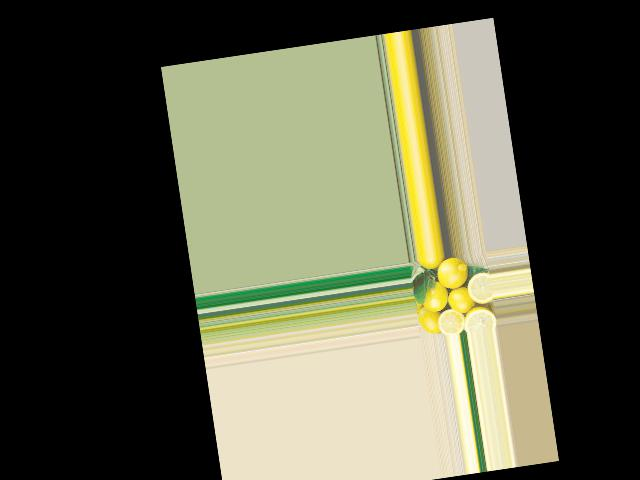lemon: (416, 303, 443, 336)
